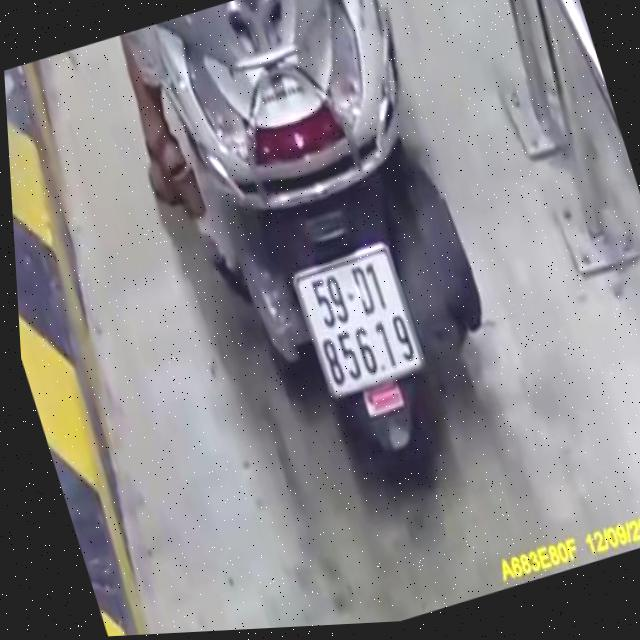motorcycle: (131, 0, 545, 536)
plate: (278, 229, 440, 409)
